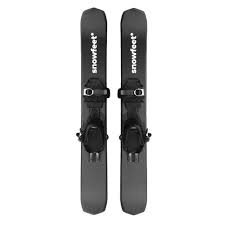skis: (78, 7, 151, 213)
